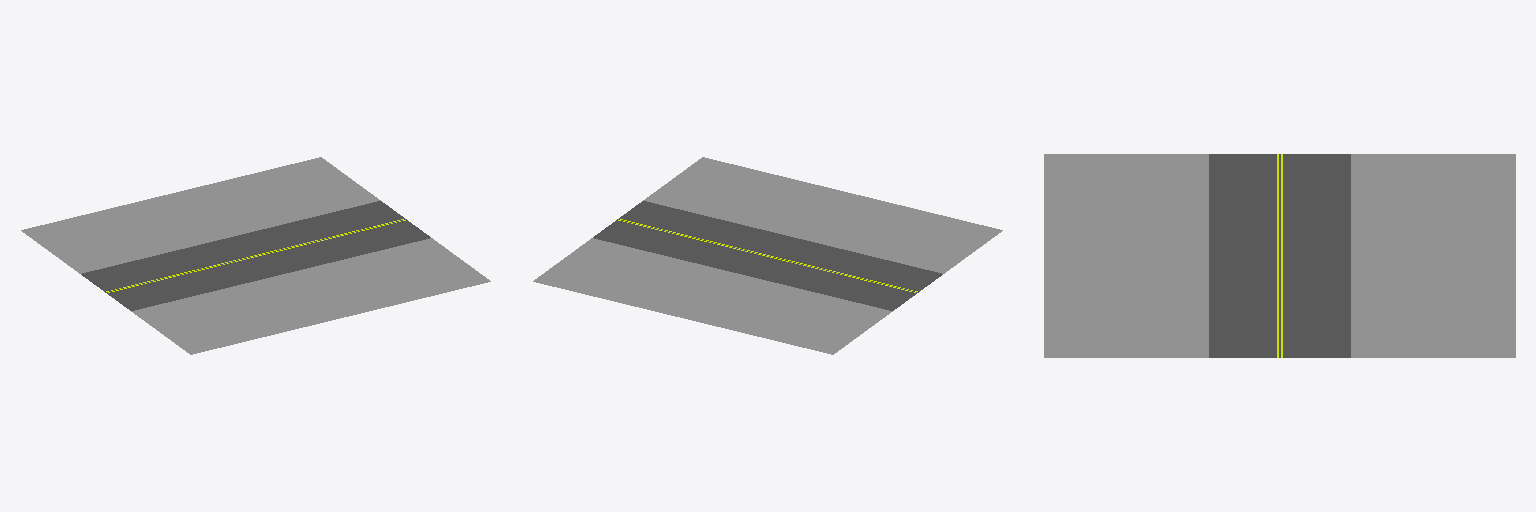
URDF robot description (road):
<?xml version="1.0"?> 

<!-- Copyright 2023 [author] -->

<!-- Licensed under the Apache License, Version 2.0 (the "License"); -->
<!-- you may not use this file except in compliance with the License. -->
<!-- You may obtain a copy of the License at -->

<!--     http://www.apache.org/licenses/LICENSE-2.0 -->

<!-- Unless required by applicable law or agreed to in writing, software -->
<!-- distributed under the License is distributed on an "AS IS" BASIS, -->
<!-- WITHOUT WARRANTIES OR CONDITIONS OF ANY KIND, either express or implied. -->
<!-- See the License for the specific language governing permissions and -->
<!-- limitations under the License. -->

<!-- Authors: [author], [author] -->

<robot name="road">
    <!-- Colors --> 
    <material name="grey"> 
        <color rgba="0.65 0.65 0.65 1"/>
    </material>

    <!-- Plane -->
    <link name="ground">
        <visual> 
            <geometry> 
                <mesh filename='meshes/ground_urban.stl' scale='0.4 0.4 1'/>
                <origin rpy="0 0 0" xyz="0 0 0"/>
            </geometry>
            <material name="grey"/>
        </visual>
        <collision> 
             <geometry> 
                <mesh filename='meshes/ground_urban.stl' scale='0.4 0.4 1'/>
                <origin rpy="0 0 0" xyz="0 0 0"/>
            </geometry>
        </collision> 
        <inertial> 
            <mass value="0"/>
            <inertia ixx="0" ixy="0" ixz="0" iyy="0" iyz="0" izz="0"/>
        </inertial> 
        <contact> 
            <lateral_friction value="4"/>
        </contact>
    </link>
    <link name="road">
        <visual> 
            <geometry> 
                <mesh filename='meshes/road.stl' scale='0.4 0.4 1'/>
                <origin rpy="0 0 0" xyz="0 0 0"/>
            </geometry>
            <material name="black">
                <color rgba='0.4 0.4 0.4 1'/>
            </material>
        </visual>
        <collision> 
             <geometry> 
                <mesh filename='meshes/road.stl' scale='0.4 0.4 1'/>
                <origin rpy="0 0 0" xyz="0 0 0"/>
            </geometry>
        </collision> 
        <inertial> 
            <mass value="0"/>
            <inertia ixx="0" ixy="0" ixz="0" iyy="0" iyz="0" izz="0"/>
        </inertial> 
        <contact> 
            <lateral_friction value="4"/>
        </contact>
    </link>
    <joint name="road_ground" type="fixed">
        <origin rpy="0 0 0" xyz="0 0 0"/>
        <parent link="ground"/>
        <child link="road"/>
    </joint>
    <link name="lines">
        <visual> 
            <geometry> 
                <mesh filename='meshes/road_lines.stl' scale='0.4 0.4 1'/>
                <origin rpy="0 0 0" xyz="0 0 0"/>
            </geometry>
            <material name="yellow">
                <color rgba='0.9 1 0 1'/>
            </material>
        </visual>
        <collision> 
             <geometry> 
                <mesh filename='meshes/road_lines.stl' scale='0.4 0.4 1'/>
                <origin rpy="0 0 0" xyz="0 0 0"/>
            </geometry>
        </collision> 
        <inertial> 
            <mass value="0"/>
            <inertia ixx="0" ixy="0" ixz="0" iyy="0" iyz="0" izz="0"/>
        </inertial> 
        <contact> 
            <lateral_friction value="4"/>
        </contact>
    </link>
    <joint name="road_lines" type="fixed">
        <origin rpy="0 0 0" xyz="0 0 0.00015"/>
        <parent link="ground"/>
        <child link="lines"/>
    </joint>
</robot>

--- Render facts (derived) ---
Views: 3 orthographic renders of the robot side by side, from view 1: azimuth 30°, elevation 25°; view 2: azimuth 150°, elevation 25°; view 3: azimuth 270°, elevation 25°.
Robot: road — 3 links, 2 joints (2 fixed); root link ground; default pose: every joint at zero.
Visible links, largest first — view 1: ground, road; view 2: ground, road; view 3: ground, road, lines.
Link boxes in pixels (bbox=[...]): ground: bbox=[21, 157, 490, 354]; road: bbox=[81, 201, 430, 310]; ground: bbox=[533, 157, 1002, 354]; road: bbox=[593, 201, 942, 310]; ground: bbox=[1044, 154, 1515, 357]; road: bbox=[1209, 154, 1350, 357]; lines: bbox=[1277, 154, 1282, 357].
Size in the robot's own frame: 20.4 by 20 by 0.0002 metres.
Meshes: 3 distinct files referenced, 3 mesh visuals loaded (3 binary STL).
